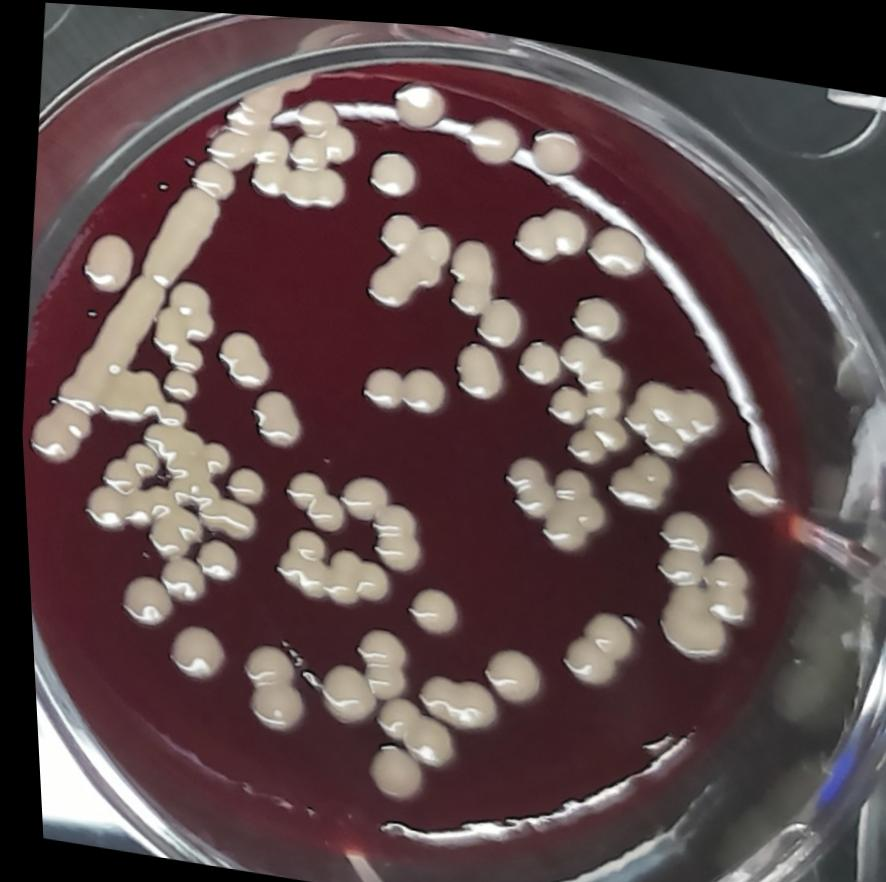staphylo-: (46, 260, 169, 429), (544, 325, 636, 465), (132, 170, 230, 296), (357, 198, 455, 314), (266, 521, 391, 608), (613, 360, 720, 459), (545, 591, 641, 690), (128, 419, 226, 511), (139, 275, 221, 376), (112, 477, 203, 559), (646, 570, 730, 658), (230, 636, 302, 734), (361, 691, 454, 764), (536, 457, 607, 551), (282, 88, 360, 171), (503, 189, 586, 265), (404, 664, 494, 731), (688, 535, 754, 621), (644, 493, 706, 583), (19, 393, 92, 467), (359, 492, 424, 573), (342, 617, 404, 701), (440, 225, 499, 313), (204, 319, 273, 394), (273, 460, 344, 532), (598, 438, 671, 507), (92, 428, 161, 501), (238, 376, 302, 454), (491, 441, 552, 521), (581, 209, 650, 277), (385, 68, 454, 136), (353, 733, 421, 800), (471, 637, 539, 704), (158, 616, 223, 686), (715, 445, 780, 514), (309, 656, 373, 724), (444, 330, 504, 402), (396, 572, 460, 637), (76, 226, 136, 294), (459, 103, 521, 168), (561, 280, 626, 342), (109, 564, 168, 629), (360, 139, 420, 201), (523, 115, 583, 175), (468, 284, 526, 345), (392, 357, 447, 420), (283, 159, 347, 212), (245, 122, 290, 197), (507, 325, 563, 384), (330, 465, 387, 520), (190, 493, 255, 541), (149, 550, 203, 606), (184, 149, 239, 200), (185, 534, 234, 584), (352, 353, 398, 406), (216, 456, 260, 507), (537, 372, 583, 420), (79, 482, 121, 529), (154, 361, 198, 403)
